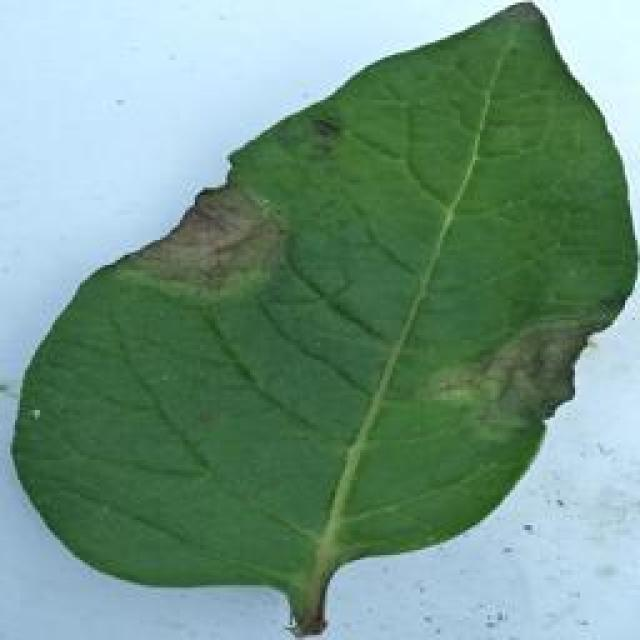Potato_Late_Blight: (17, 4, 627, 628)
